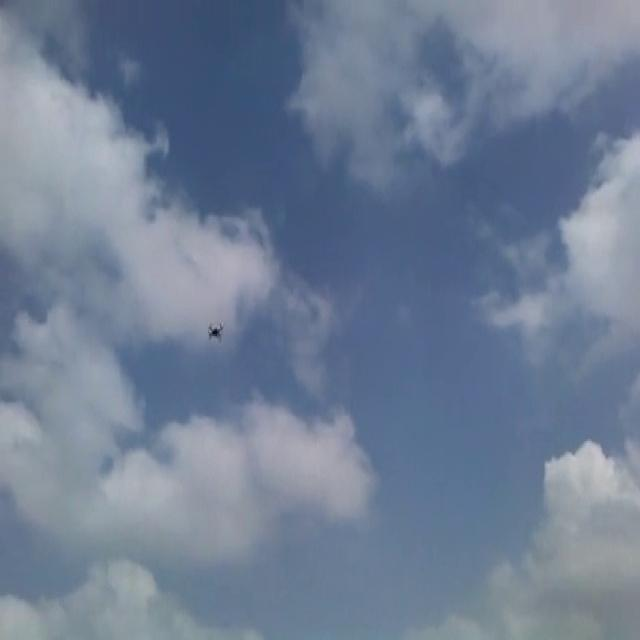drone: (205, 316, 225, 342)
